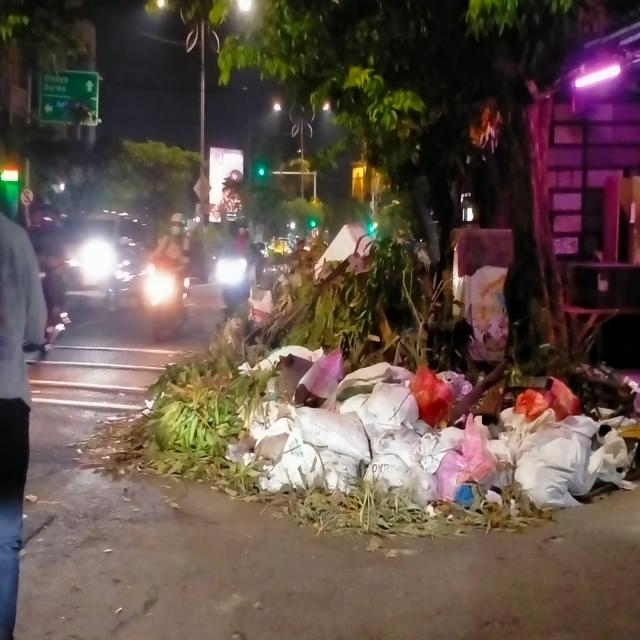garbage: (206, 227, 640, 516)
